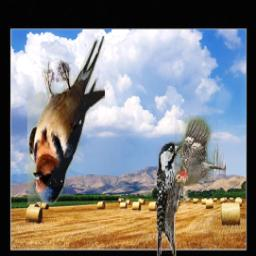Swallow: (27, 35, 105, 206)
Woodpecker: (156, 142, 189, 256), (175, 117, 226, 187)
